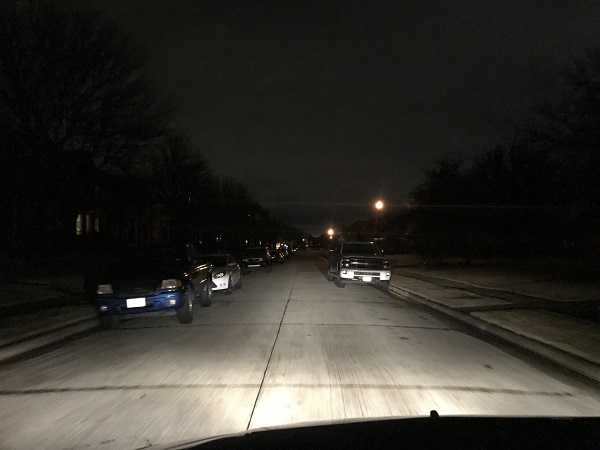car: (205, 250, 241, 294), (240, 247, 273, 269), (272, 244, 288, 262)
truck: (90, 249, 210, 327), (322, 241, 392, 289)
